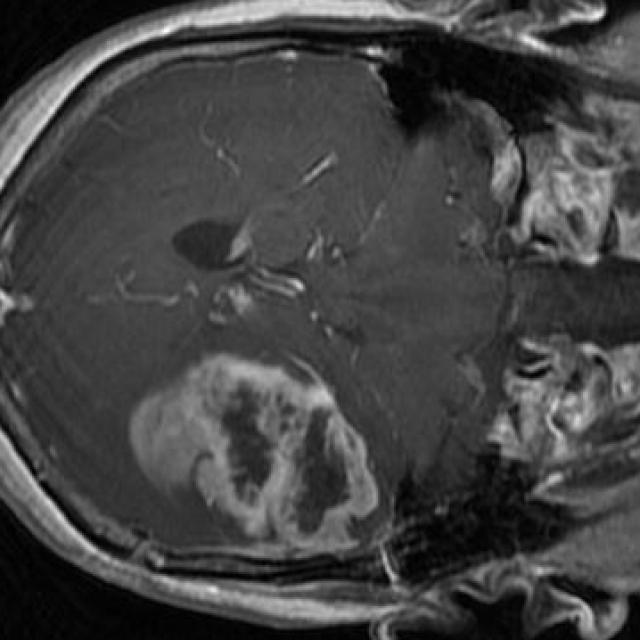glioma: (130, 349, 390, 562)
